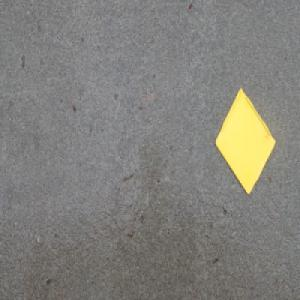PlasticPart: (213, 87, 276, 196)
